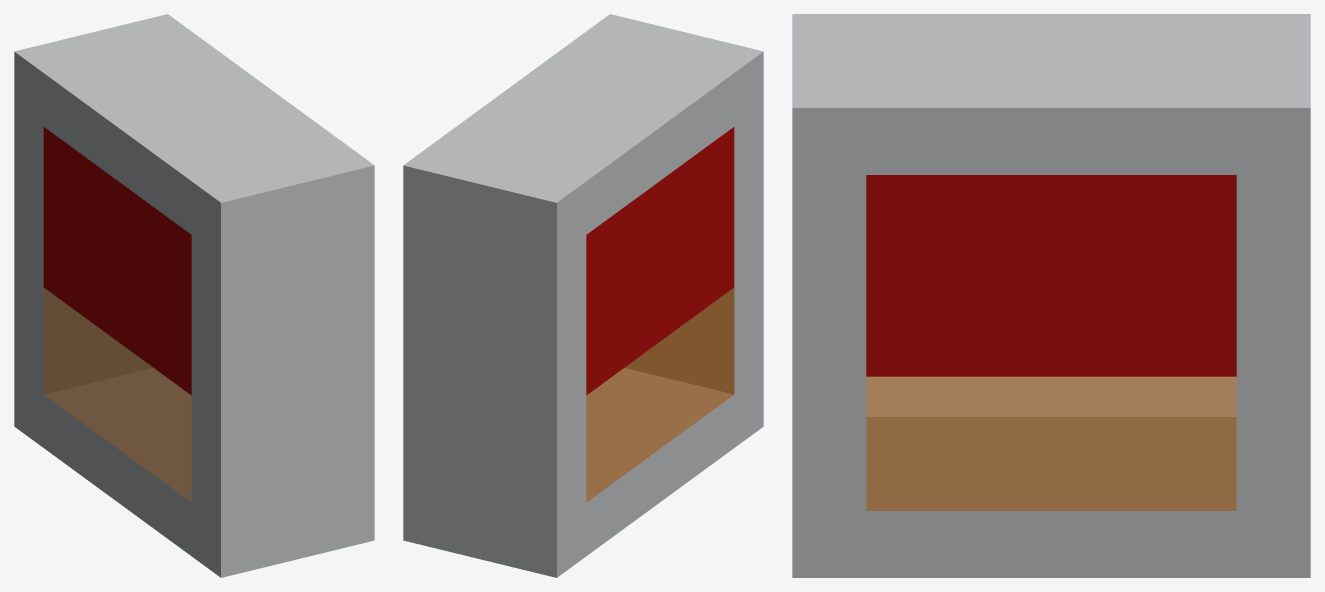
Rendered from convertible_tail_lamp.glb.
3 views of the same model, side by side, from view 1: azimuth 30°, elevation 25°; view 2: azimuth 150°, elevation 25°; view 3: azimuth 270°, elevation 25° (orthographic). The views are drawn at different scales.
Visible parts, largest first — view 1: body:compound; view 2: body:compound; view 3: body:compound.
Boxes of the visible parts, box(x1,y1,x2,y2) form: body:compound: box(14, 14, 374, 577); body:compound: box(403, 14, 763, 577); body:compound: box(792, 14, 1310, 577).
Bounding box in the file's own units: 0.0938 × 0.2188 × 0.2188.
